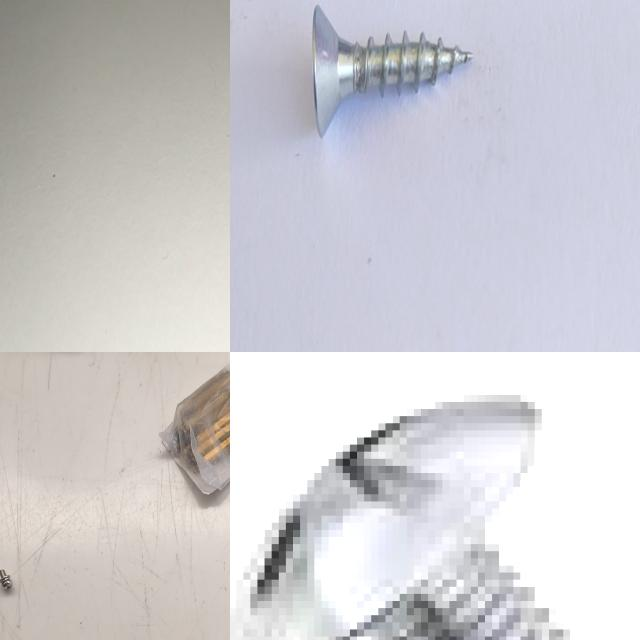Screw: (230, 395, 574, 640), (311, 4, 472, 136), (0, 567, 14, 593)
